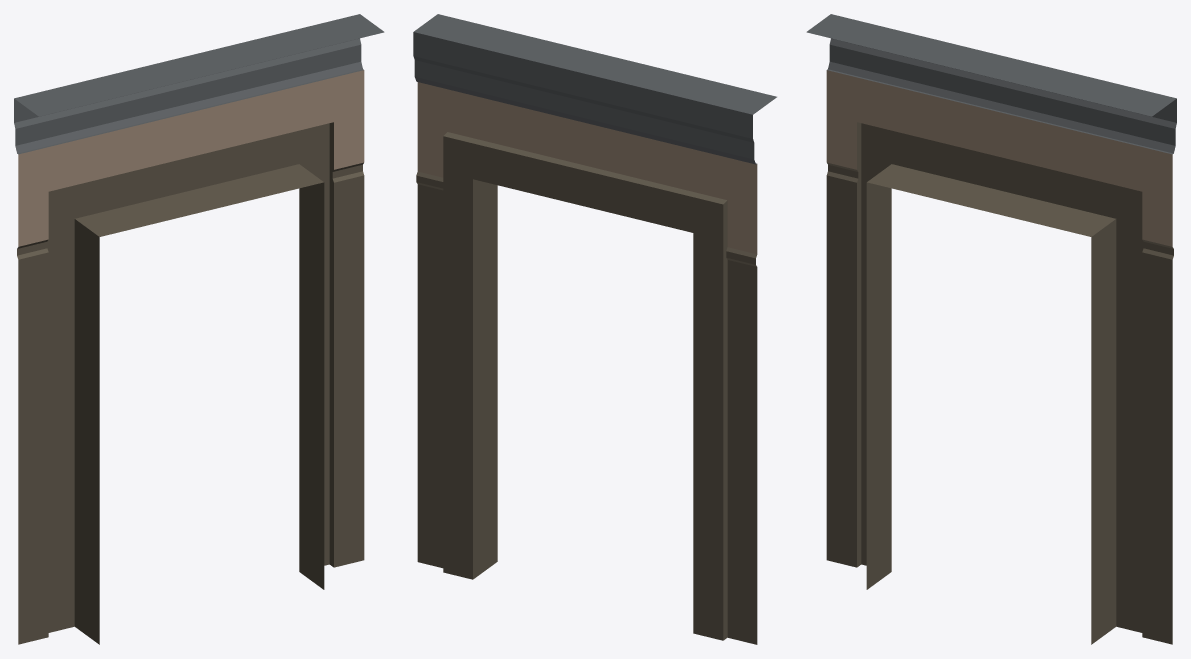
The model's file is Fancy_Doorframe.fbx.
The picture shows the model from 3 angles, left to right: view 1: azimuth 30°, elevation 25°; view 2: azimuth 150°, elevation 25°; view 3: azimuth 330°, elevation 25°; orthographic projection.
Parts seen in each view (by area): view 1: Door1.002; view 2: Door1.002; view 3: Door1.002.
Part boxes in pixels (box(x1,y1,x2,y2)): Door1.002: box(14, 14, 384, 644); Door1.002: box(413, 14, 776, 644); Door1.002: box(806, 14, 1176, 644).
Bounding box in the file's own units: 200 × 300 × 25.
